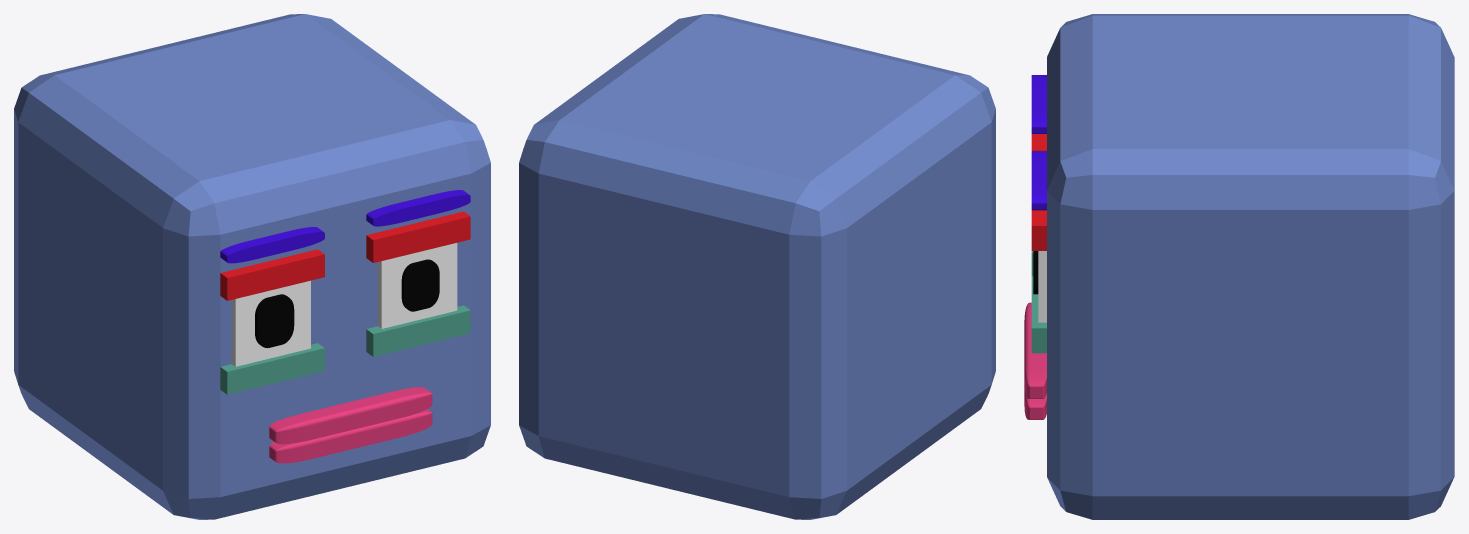
The model's file is HEHE.glb.
3 renders of one model, left to right at view 1: azimuth 30°, elevation 25°; view 2: azimuth 150°, elevation 25°; view 3: azimuth 270°, elevation 25°, orthographic. The views are drawn at different scales.
Visible parts, largest first — view 1: Cube; view 2: Cube; view 3: Cube.
Part boxes in pixels (left/top/right/bottom): Cube: left=14, top=14, right=490, bottom=519; Cube: left=519, top=14, right=995, bottom=519; Cube: left=1024, top=14, right=1454, bottom=519.
Size of the model in its own units: 1.06 by 1.06 by 1.12.
